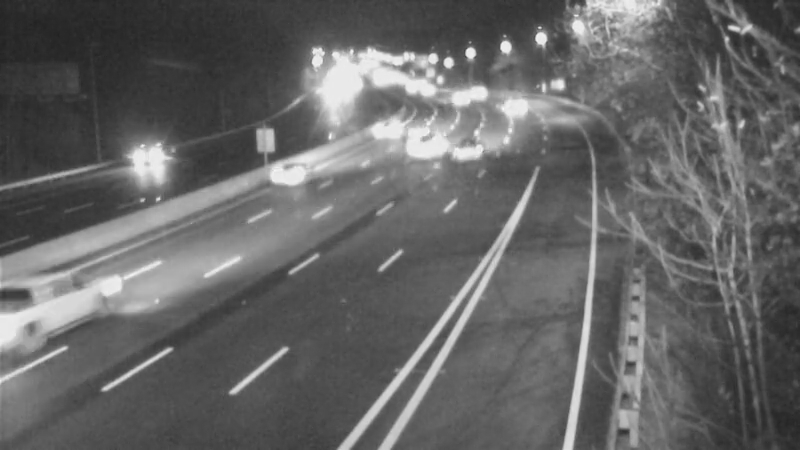vehicle: (1, 260, 95, 370), (244, 134, 324, 214), (100, 120, 180, 200), (480, 80, 530, 130), (393, 104, 443, 154), (356, 100, 406, 150), (444, 123, 494, 173), (396, 122, 446, 172)
